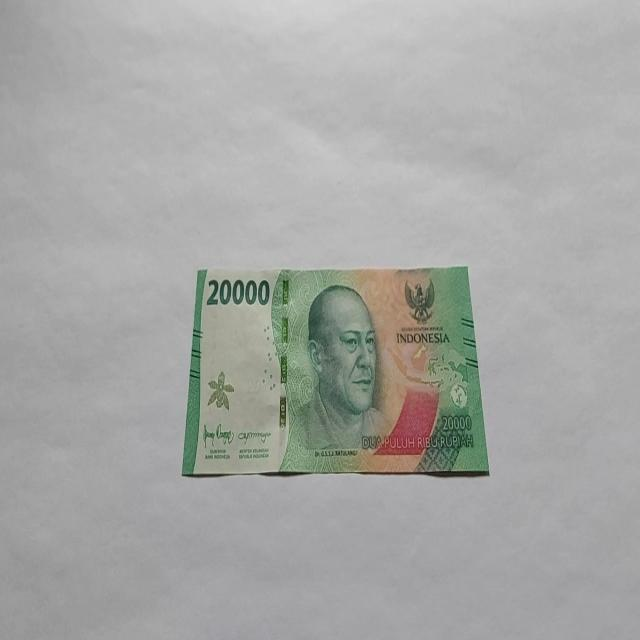dua puluh ribu rupiah: (182, 263, 489, 478), (287, 282, 394, 464)
